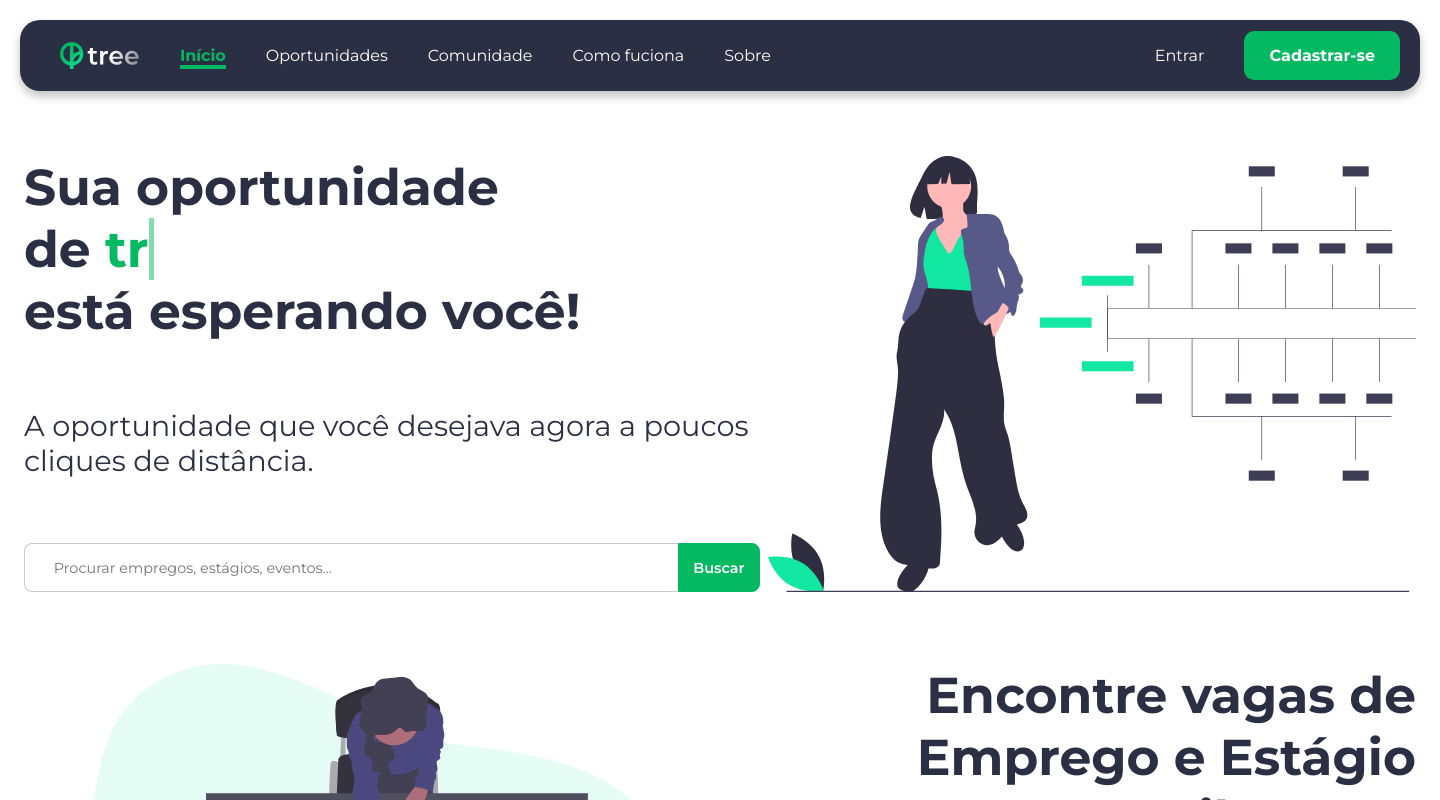
Test case: Fluxo navbar › Checar pagína de Como funciona
Click the link with test id "goHowItWorks": [628, 56] box [572,46,684,65]
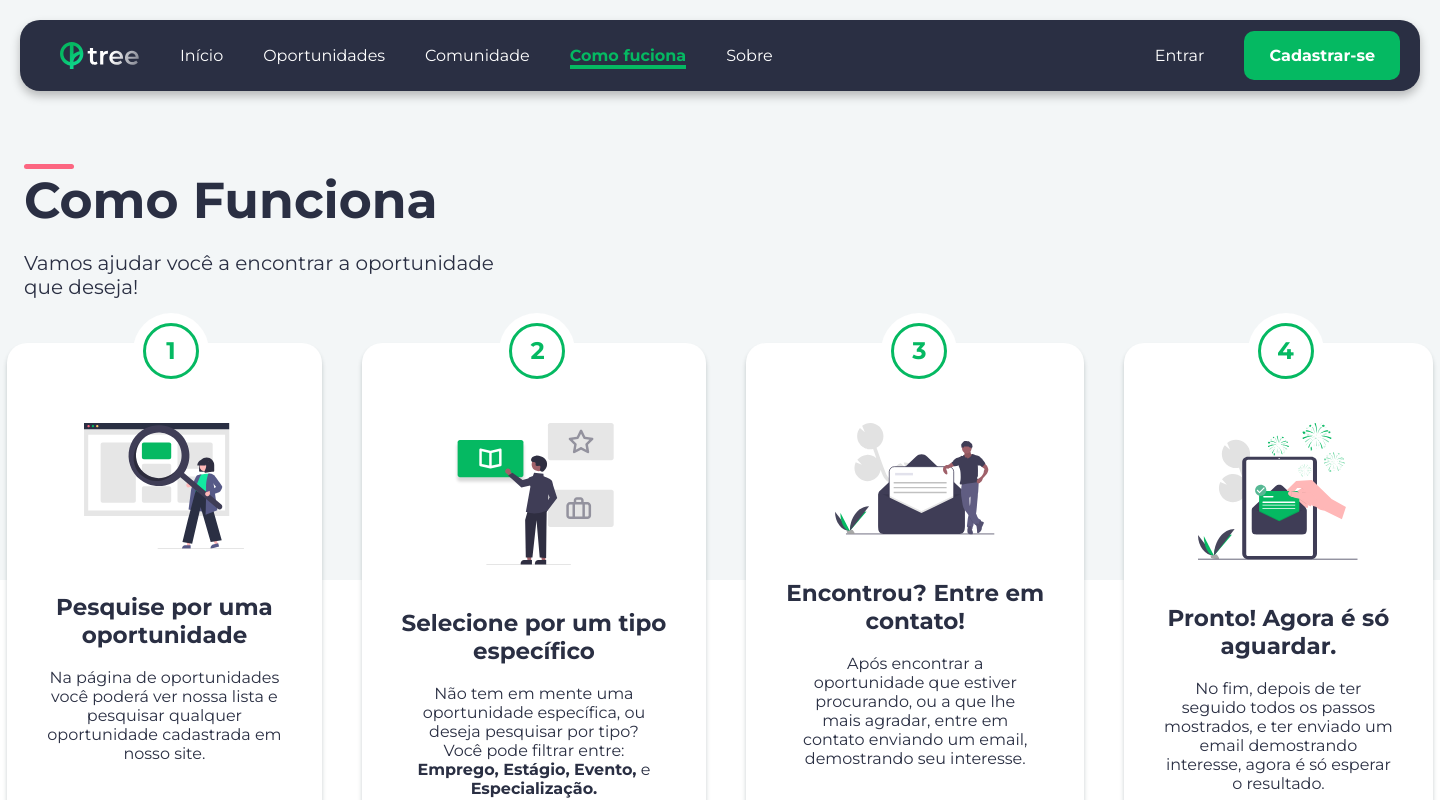
expect the heading "Como Funciona" is shown: met, box [24,169,438,231]
expect the text "Vamos ajudar você a encontrar a oportunidade que deseja!" is shown: met, box [24,251,494,299]
